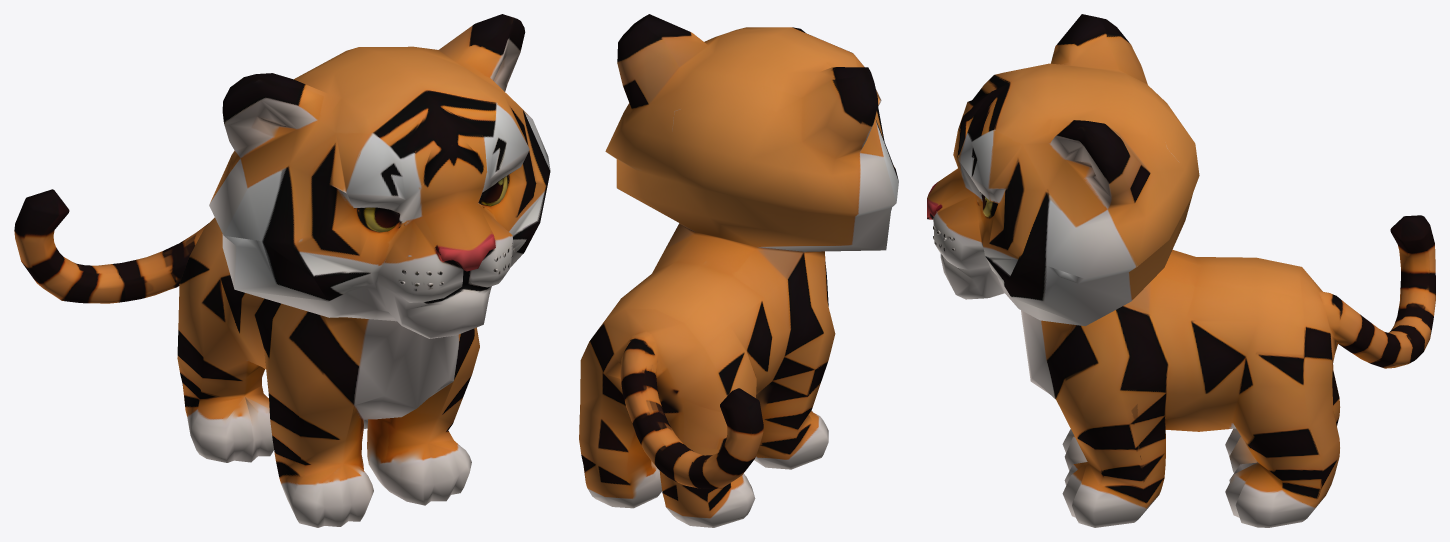
File: tiger_head.glb
The picture shows the model from 3 angles, left to right: view 1: azimuth 30°, elevation 25°; view 2: azimuth 150°, elevation 25°; view 3: azimuth 270°, elevation 25°; orthographic projection. The views are drawn at different scales.
Visible parts, largest first — view 1: material; view 2: material; view 3: material.
Boxes of the visible parts, x1,y1,x2,y2 form: material: [14, 14, 550, 527]; material: [579, 14, 898, 527]; material: [927, 14, 1435, 527].
Bounding box in the file's own units: 1.37 × 1.74 × 1.9.
1 material, 1 textured.
